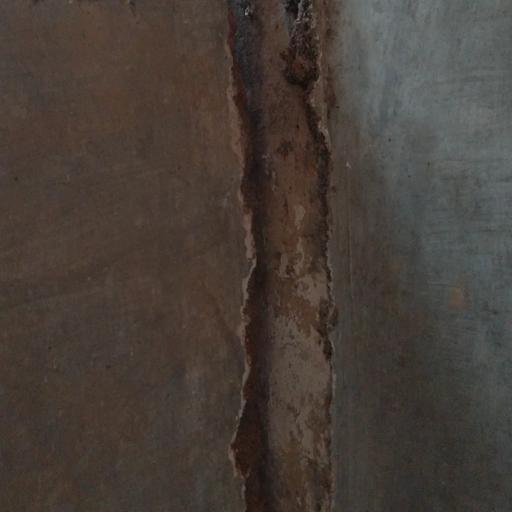major_crack: (219, 0, 359, 512)
